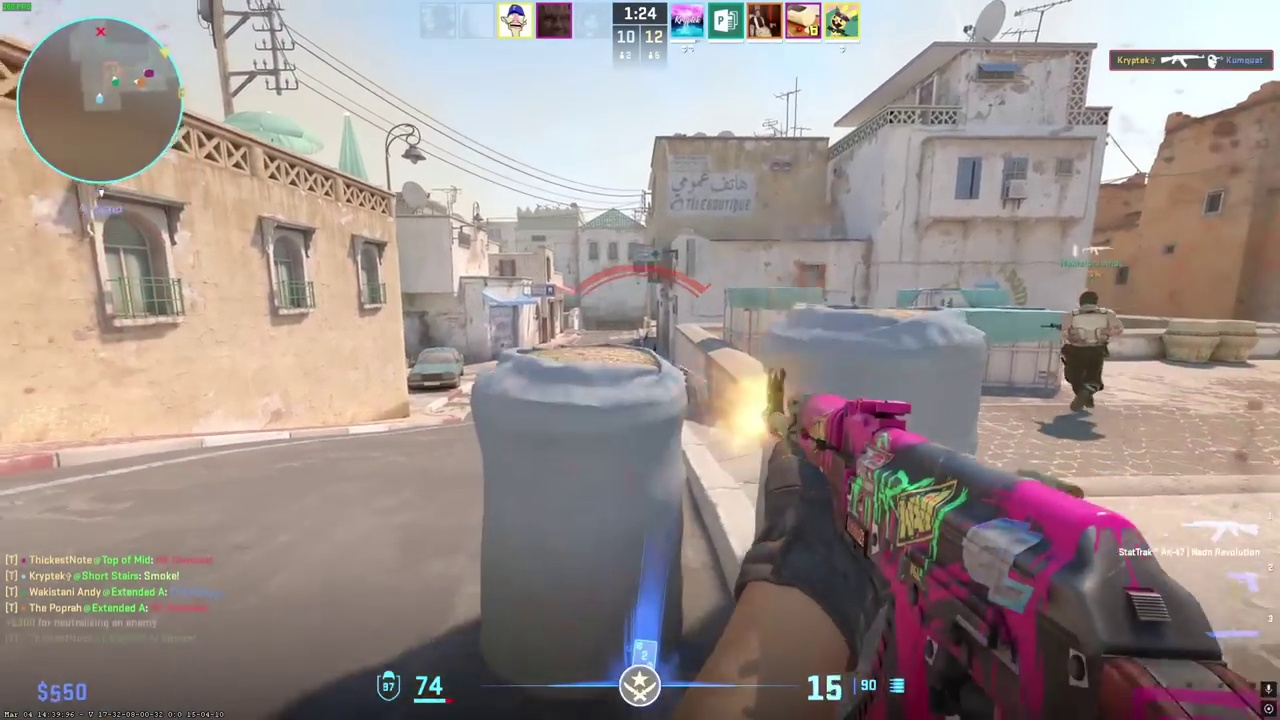Terrorist: (1059, 291, 1115, 412)
